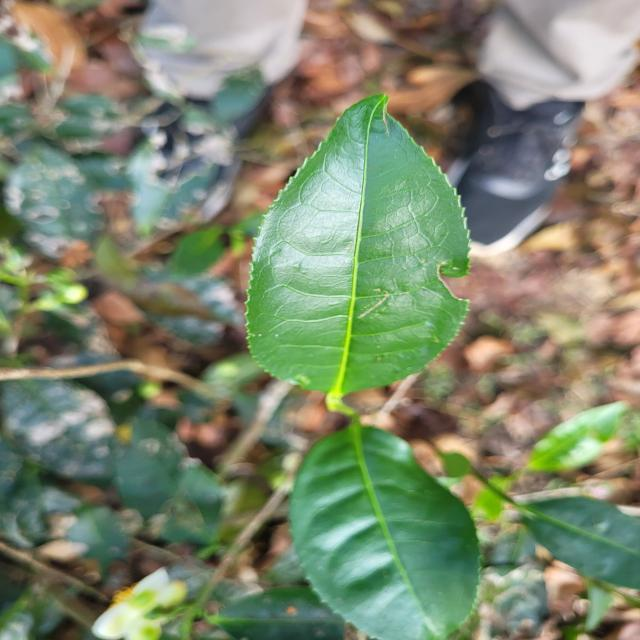Category D(7+ days, Not for Tea): (235, 78, 494, 423)
